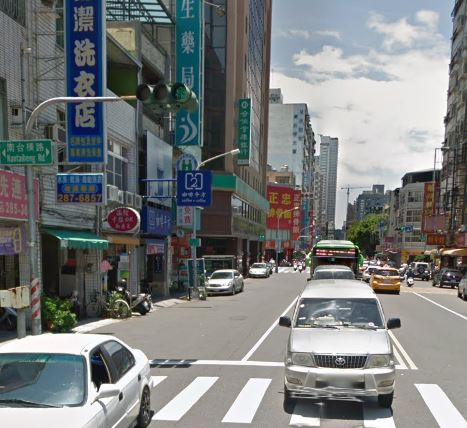Traffic_light_green: (133, 82, 199, 112)
car: (280, 281, 404, 409), (202, 267, 246, 297)
